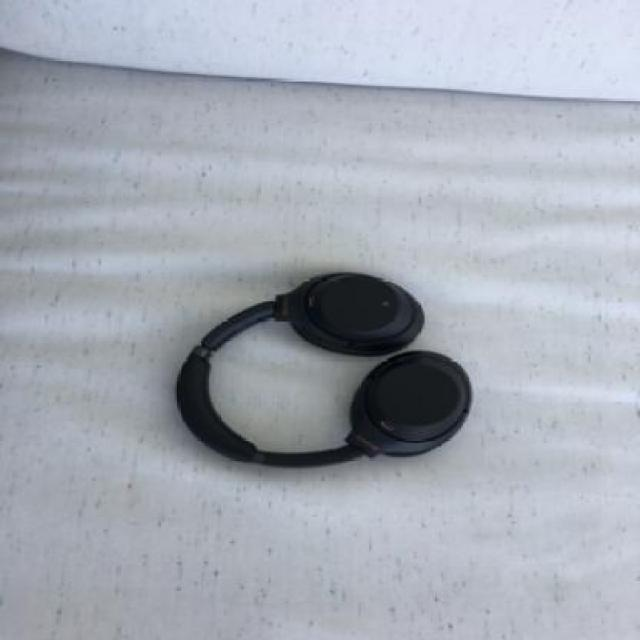earphone: (128, 208, 520, 524)
